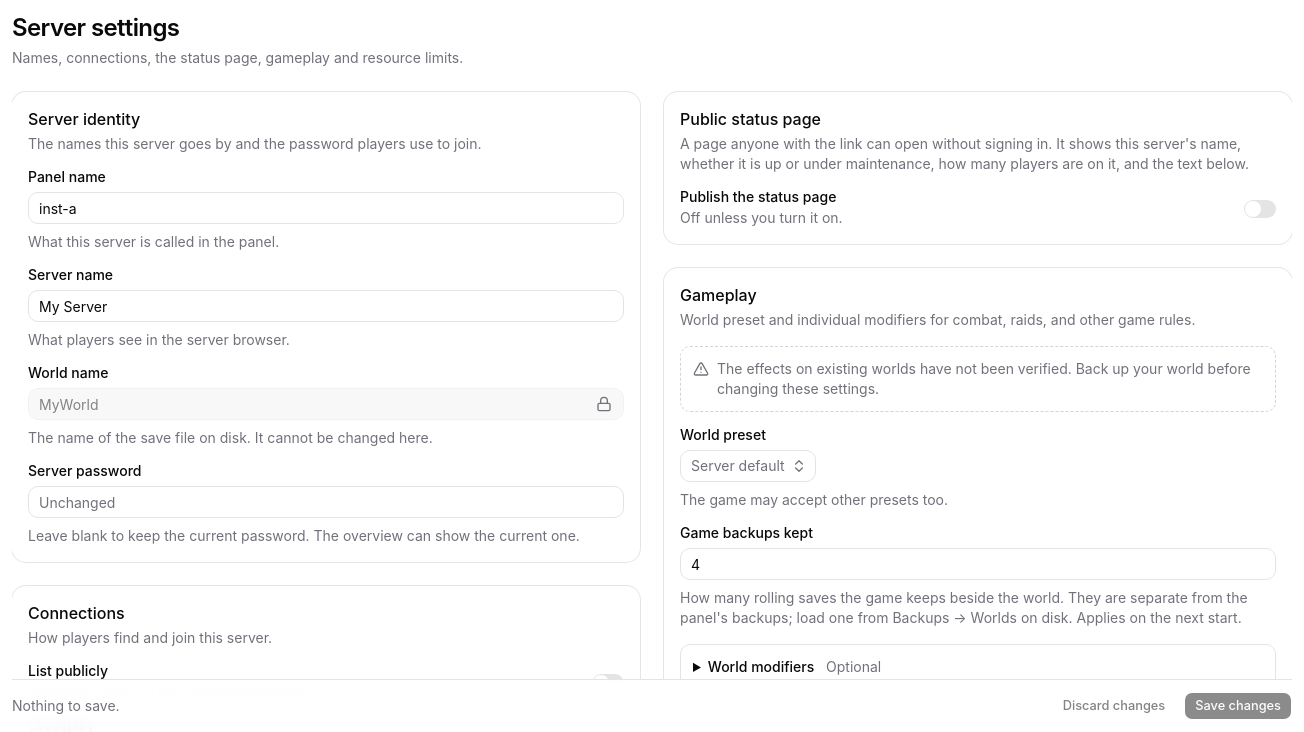
Scenario: the server settings screen › asks for the status page text only while the page is published
Expected: the field labelled "Status page notice" is not shown
Click the switch named "Publish the status page": (1260, 209) top-left (1244, 200), bottom-right (1276, 218)
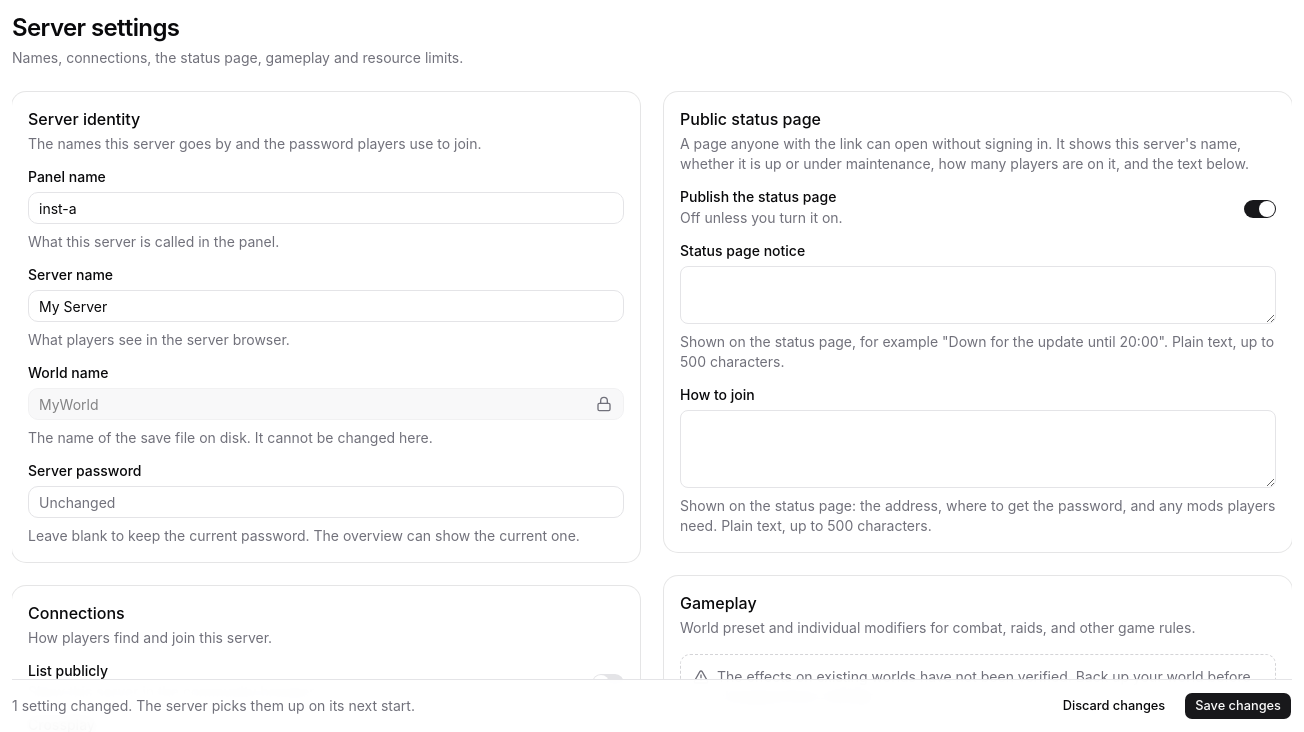
Result: the text box labelled "Status page notice" is shown at top-left (680, 266), bottom-right (1276, 324)
Result: the text box labelled "How to join" is shown at top-left (680, 410), bottom-right (1276, 488)
